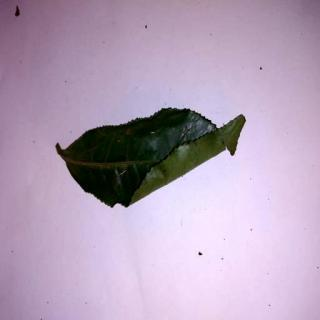Anthracnose: (53, 108, 248, 210)
